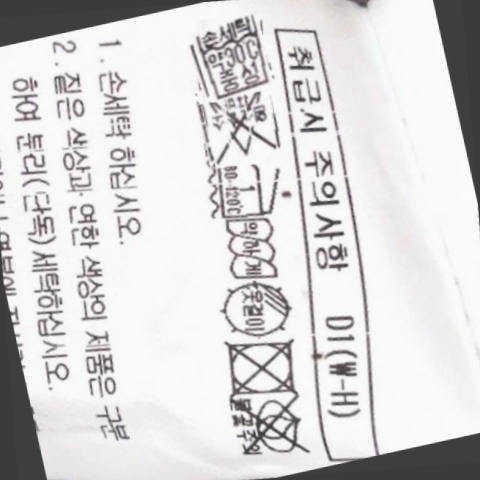DN_tumble_dry: (211, 326, 308, 408)
hand_wash: (185, 14, 278, 101)
iron_low: (206, 153, 286, 227)
line_dry_in_shade: (211, 273, 302, 345)
wring: (216, 211, 285, 289)
